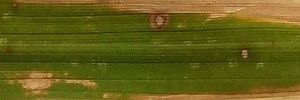RiceBlast: (100, 1, 297, 33), (8, 67, 98, 100), (237, 43, 254, 64)
